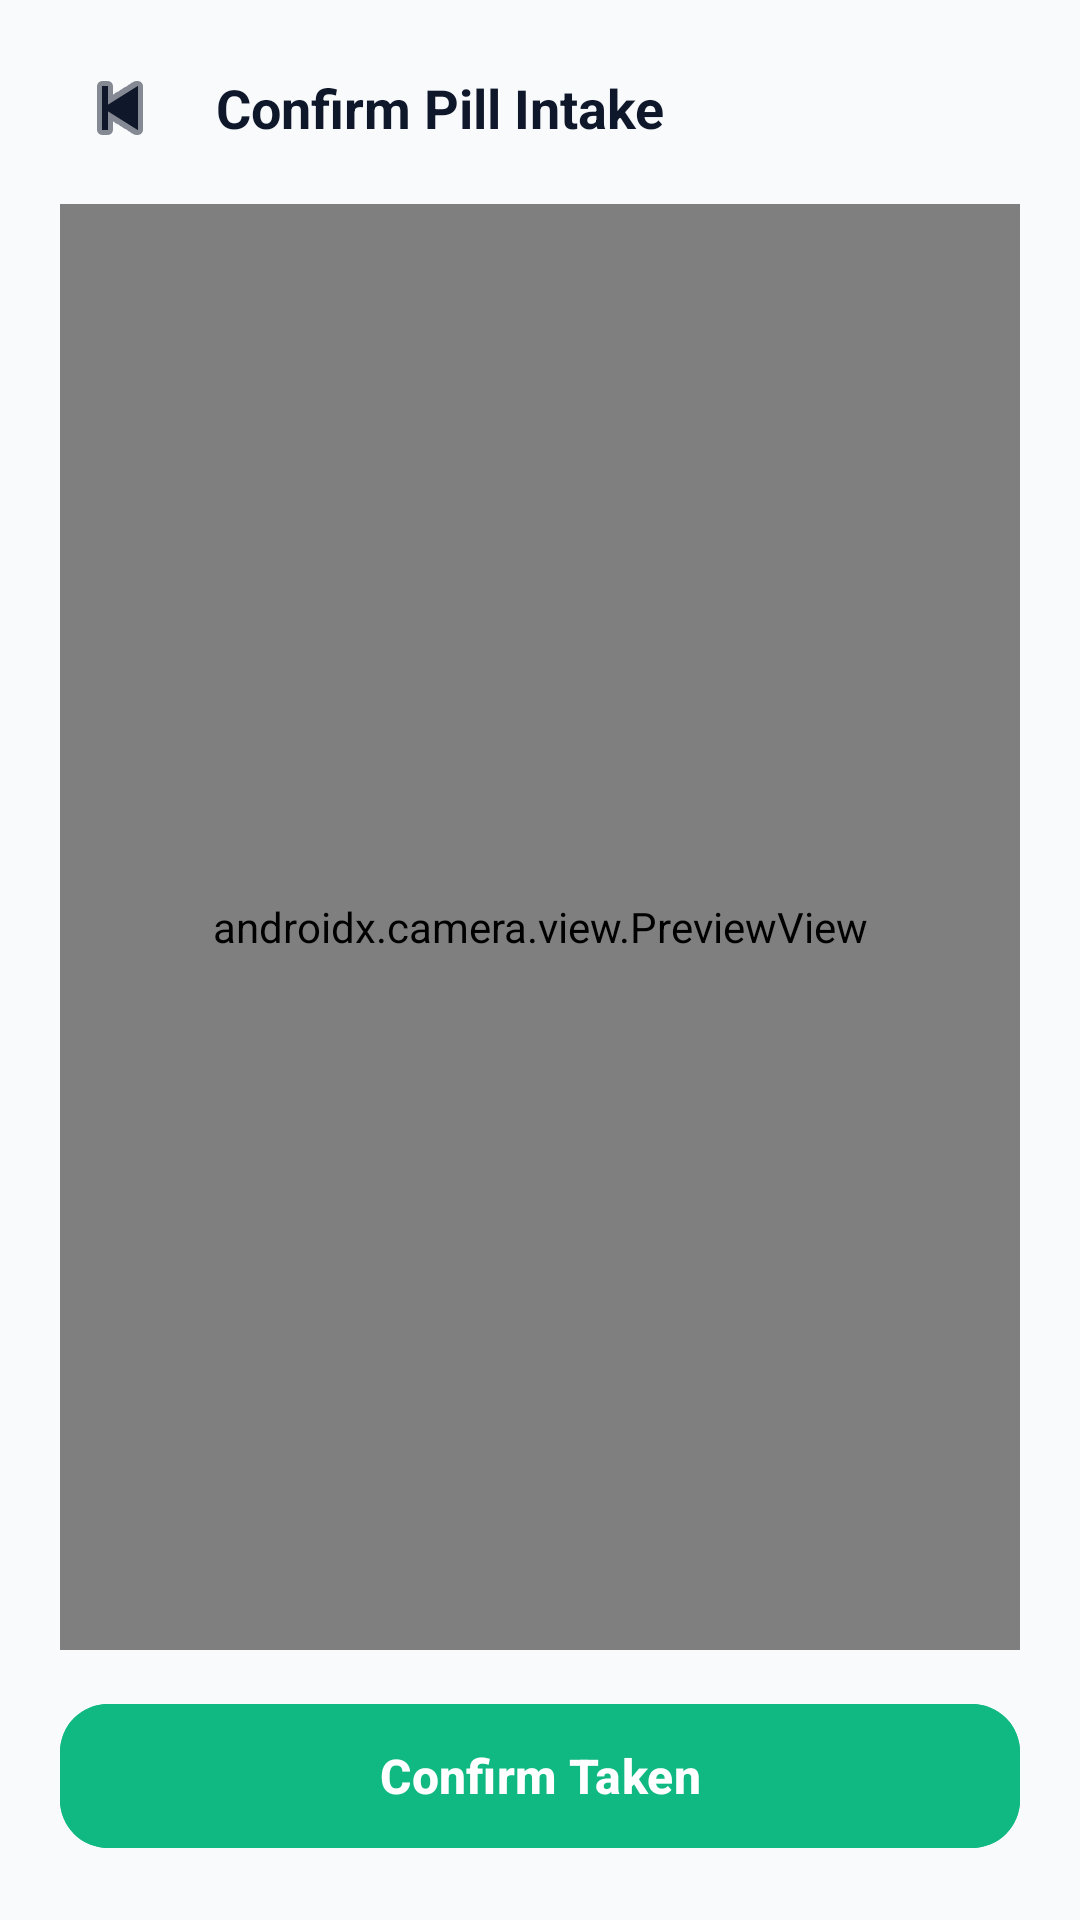

Icon click points for this 1080x1920 phone screenshot, format (x,y):
Back: (120,108)
